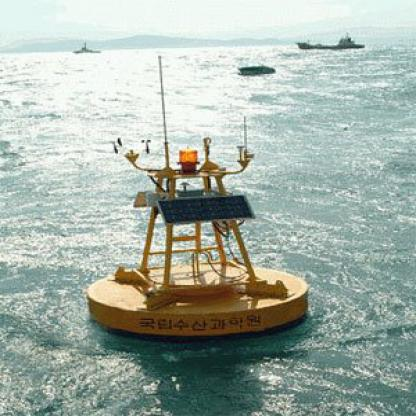buoy: (79, 52, 315, 345)
